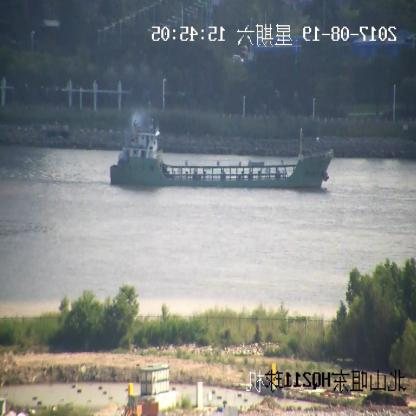Bulk Carrier: (109, 103, 332, 186)
